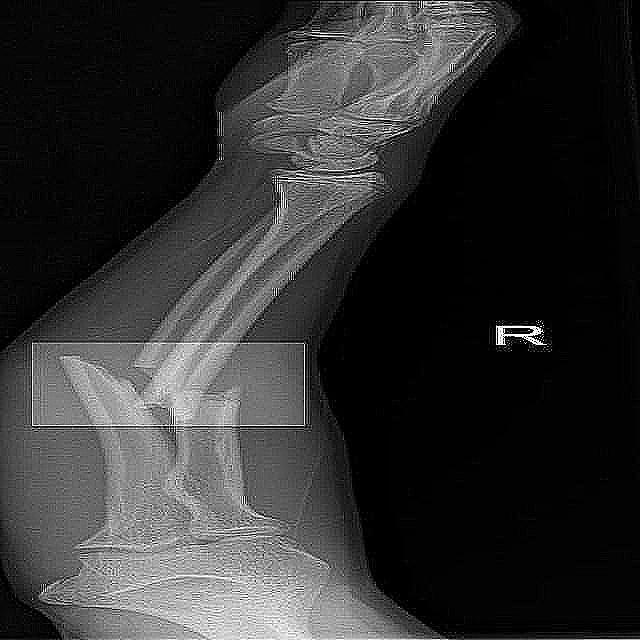bone: (139, 346, 244, 429), (51, 342, 146, 426)
